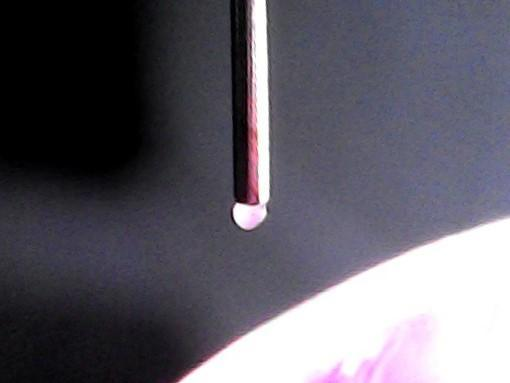water drop: (230, 198, 269, 231)
